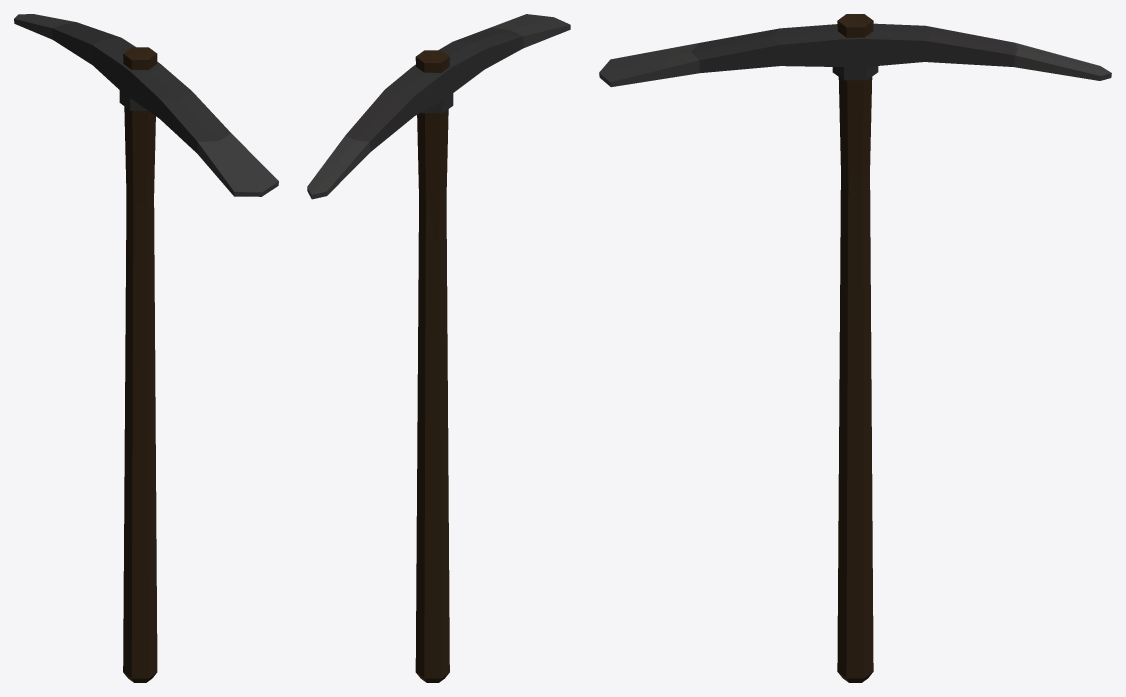
Rendered from Pickaxe.fbx.
3 views of the same model, side by side, from view 1: azimuth 30°, elevation 25°; view 2: azimuth 150°, elevation 25°; view 3: azimuth 270°, elevation 25° (orthographic). The views are drawn at different scales.
Parts seen in each view (by area): view 1: Pickaxe; view 2: Pickaxe; view 3: Pickaxe.
Part boxes in pixels (x1,y1,x2,y2): Pickaxe: (14, 14, 278, 682); Pickaxe: (307, 14, 570, 682); Pickaxe: (599, 14, 1111, 682).
Size of the model in its own units: 0.0571 by 0.7657 by 0.541.
